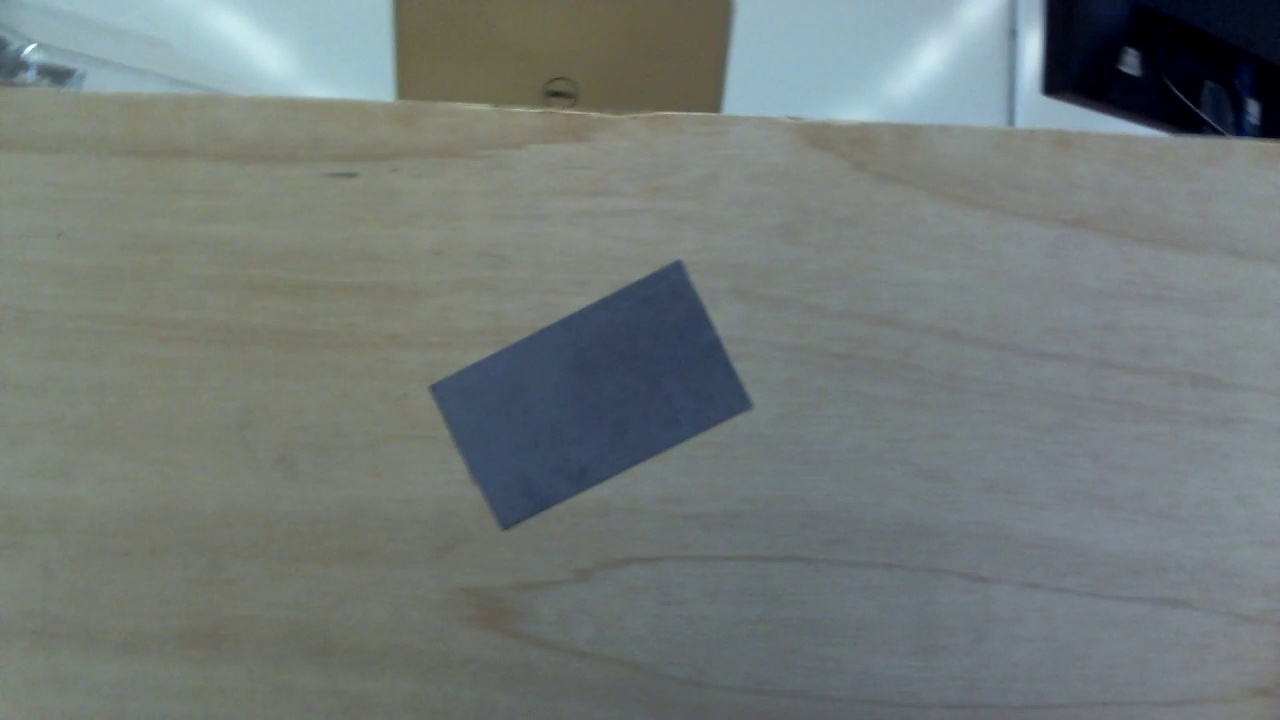Tape: (432, 261, 757, 532)
